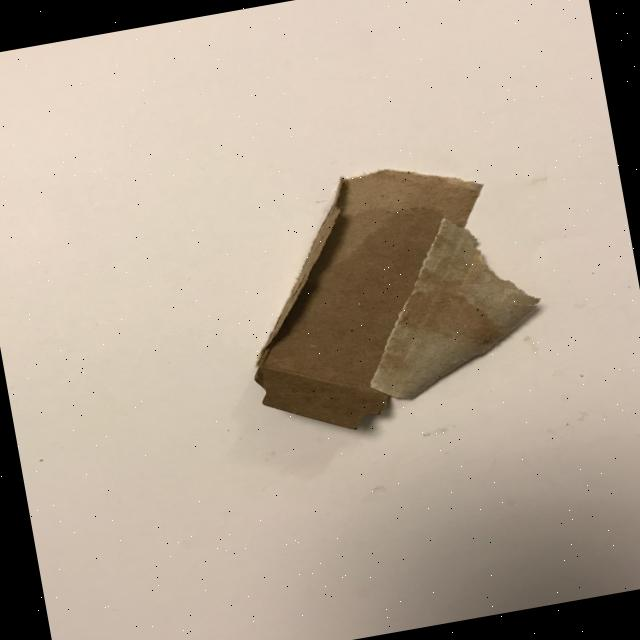paper: (221, 144, 557, 446), (342, 202, 554, 406)
